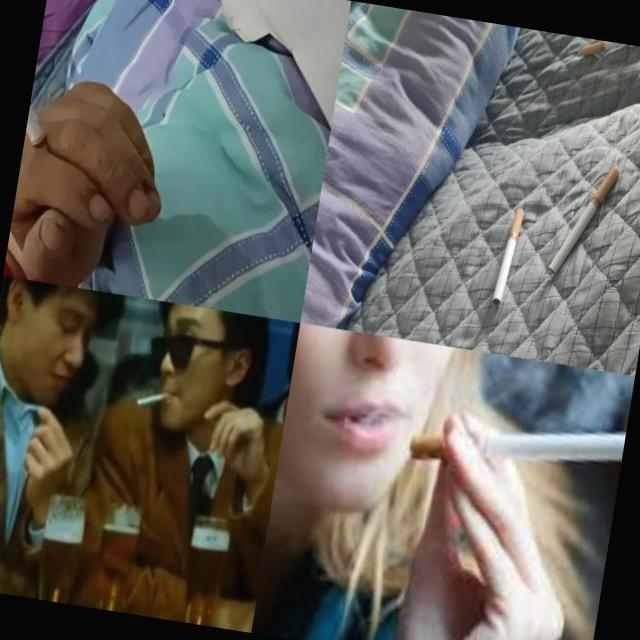cigarette: (406, 398, 626, 492), (547, 159, 620, 282), (20, 64, 68, 177), (490, 206, 524, 309), (580, 37, 640, 66), (134, 386, 171, 412)
